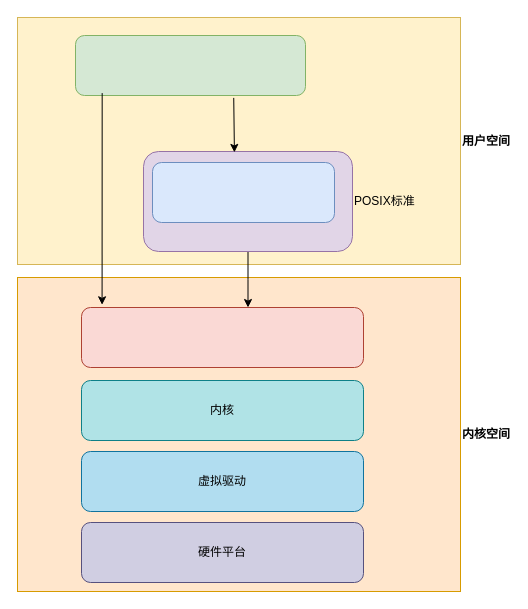
Some shapes in this 528 by 609 pixel diagram are drawn without their labels. Here are the shapes that lost their labels. From the top down, the centre of each, then its label:
the point at 190,65: 用户程序：Print("hello world")
the point at 243,192: 标准库C、C++等
the point at 222,337: 系统接口
